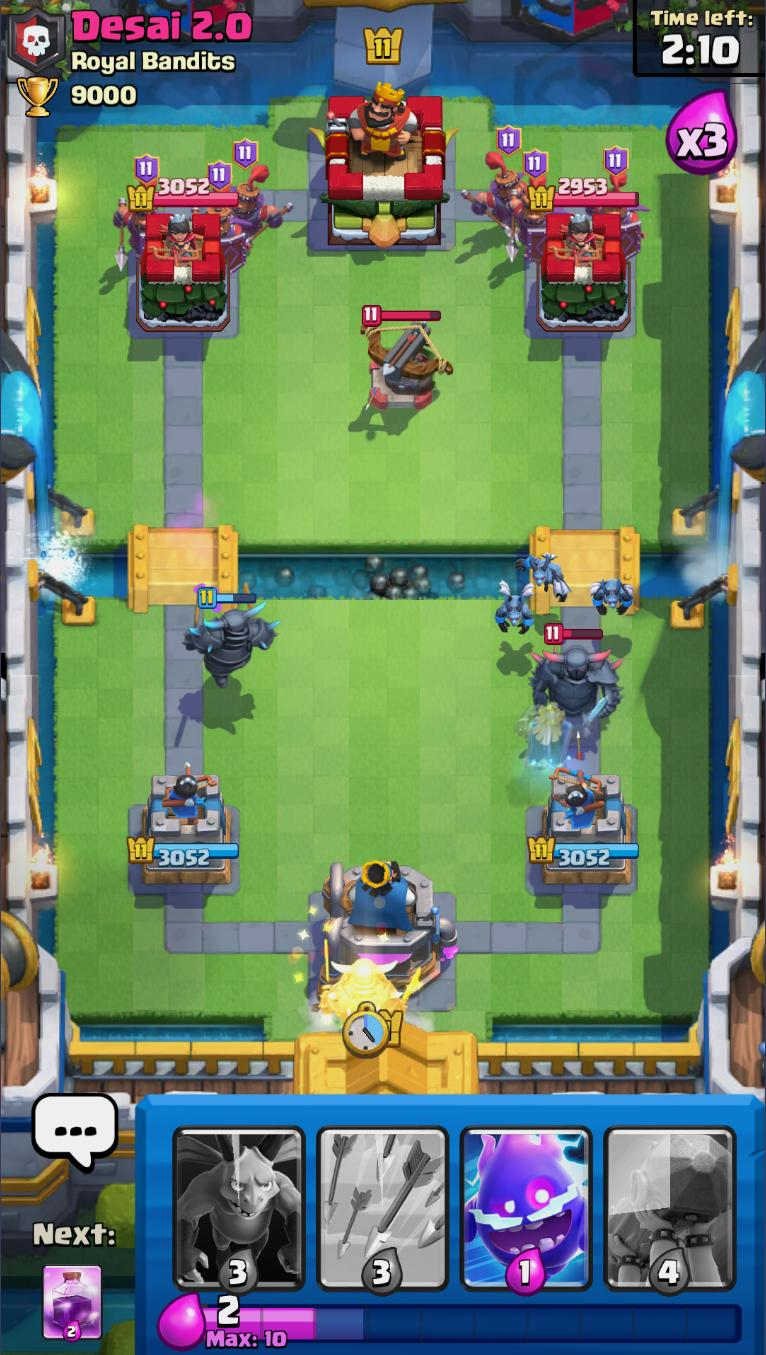ArrowDeck: (311, 1099, 454, 1296)
BattleRamDeck: (599, 1094, 741, 1296)
ElectroSpiritDeck: (456, 1096, 597, 1294)
Elixir: (201, 1296, 741, 1351)
EnemyTower: (136, 211, 234, 331), (538, 209, 632, 333), (129, 178, 239, 212), (529, 178, 640, 211)
EvoRoyalRecruit: (461, 123, 524, 244), (111, 155, 174, 274), (229, 139, 297, 241), (593, 147, 647, 262), (202, 160, 252, 269), (506, 150, 548, 264)
KingTower: (311, 79, 459, 246)
MinionsDeck: (164, 1096, 313, 1294)
MyKingTower: (317, 860, 460, 1007)
MyMinion: (516, 544, 570, 603), (496, 579, 540, 634), (589, 576, 637, 620)
MyPekka: (183, 588, 280, 690), (320, 939, 419, 1029)
MyPrincessTower: (129, 771, 240, 889), (531, 773, 639, 889)
MyPrincessTowerHP: (126, 836, 241, 867), (531, 835, 640, 866)
MyRoyaleGhost: (516, 696, 610, 770)
Pekka: (531, 621, 624, 724)
PrincessTower: (550, 211, 605, 264), (149, 213, 204, 264)
RageNext: (41, 1263, 103, 1343)
XBow: (354, 303, 457, 409)
